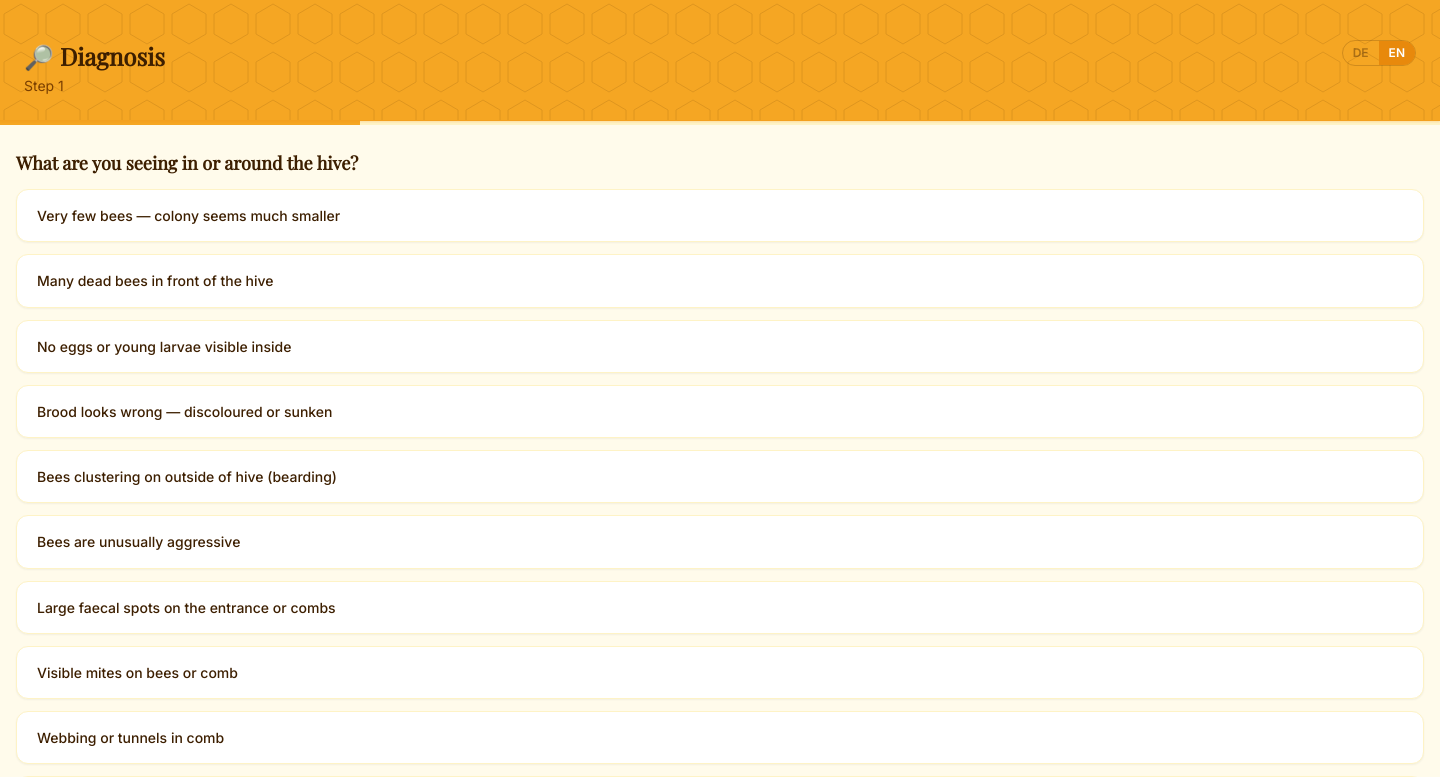
it: DiagnoseScreen › shows a diagnosis result at a leaf node
Click the button "Very few bees — colony seems much smaller" at x=189, y=216, box [16,189,1424,242]
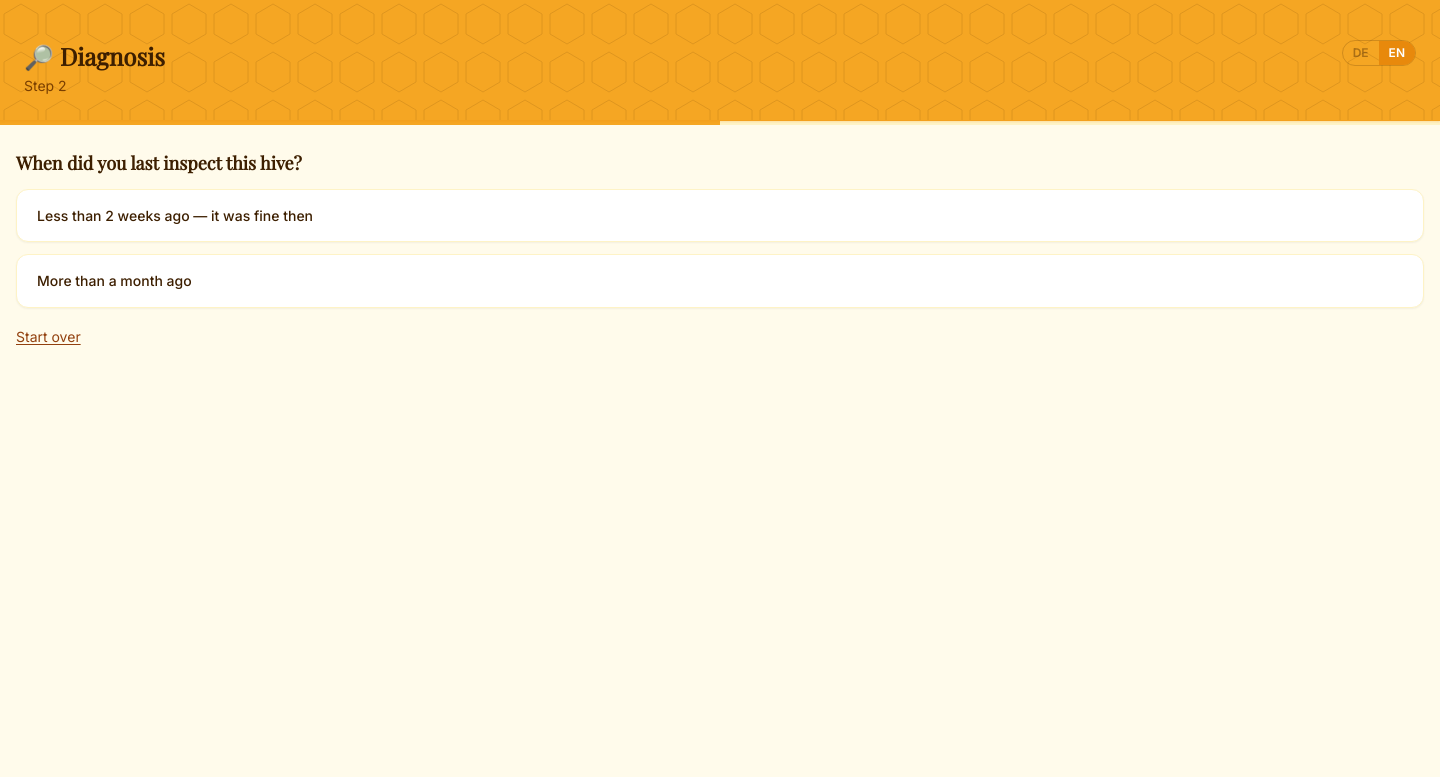
Click the button "More than a month ago" at x=114, y=281, box [16,254,1424,308]
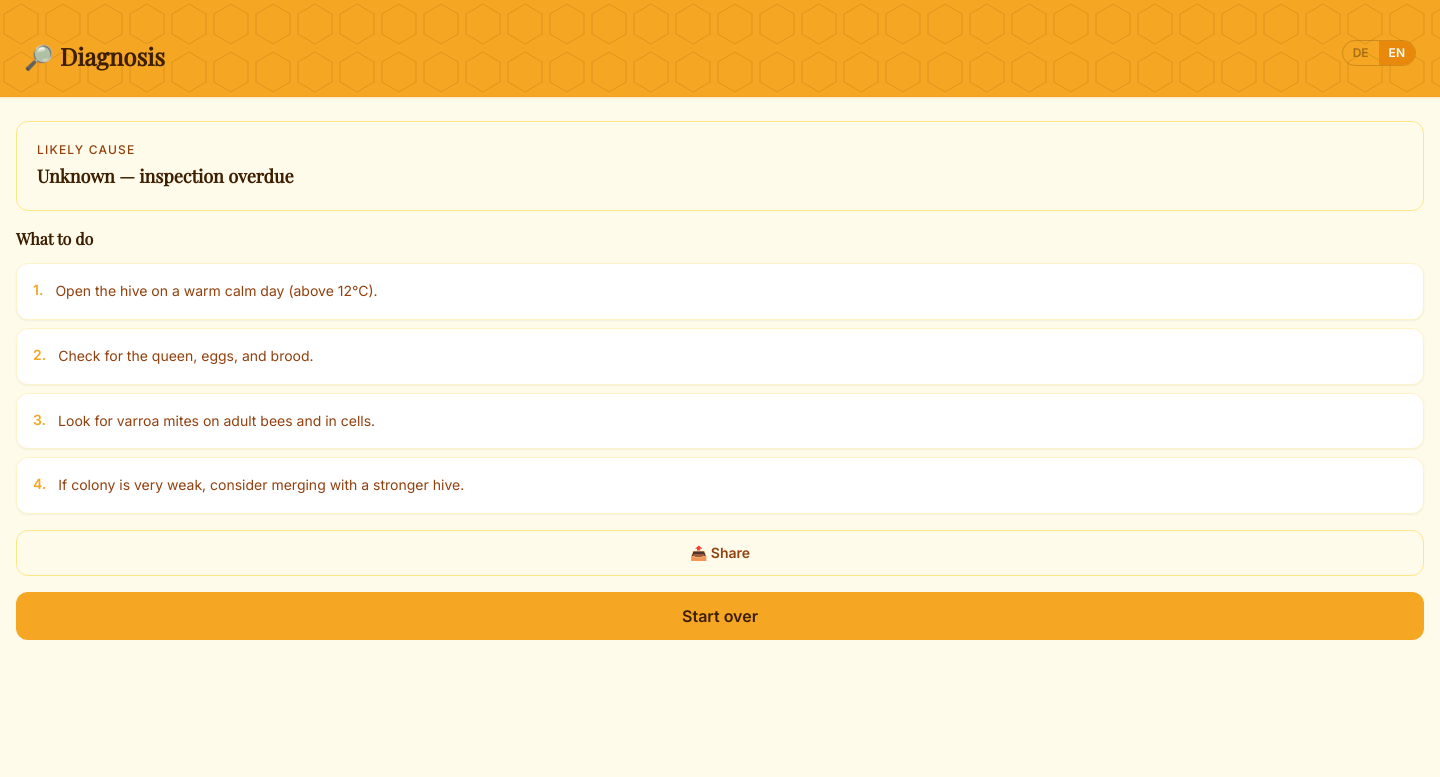
Expected: the heading "Unknown — inspection overdue" is shown, [37,164,294,188]
